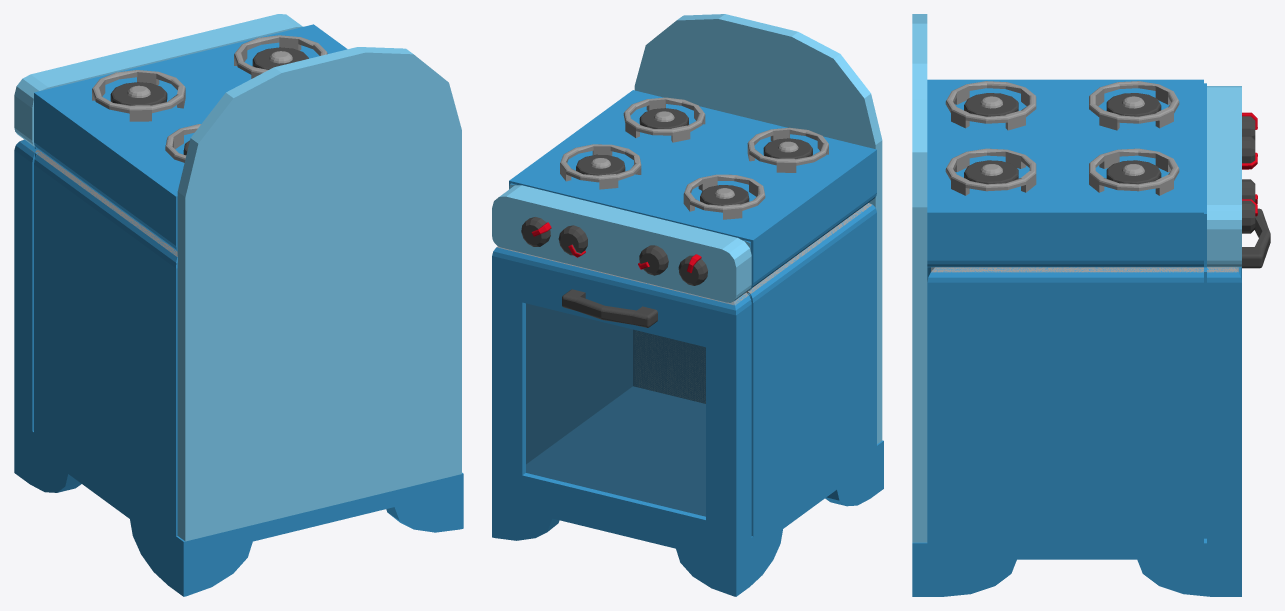
File: Ocak.fbx
3 views of the same model, side by side, from view 1: azimuth 30°, elevation 25°; view 2: azimuth 150°, elevation 25°; view 3: azimuth 270°, elevation 25° (orthographic). The views are drawn at different scales.
Visible parts, largest first — view 1: Furance; view 2: Furance; view 3: Furance.
Boxes of the visible parts, x1,y1,x2,y2 form: Furance: [14, 14, 463, 596]; Furance: [492, 14, 883, 596]; Furance: [912, 14, 1270, 596].
Size of the model in its own units: 399 by 681 by 454.
